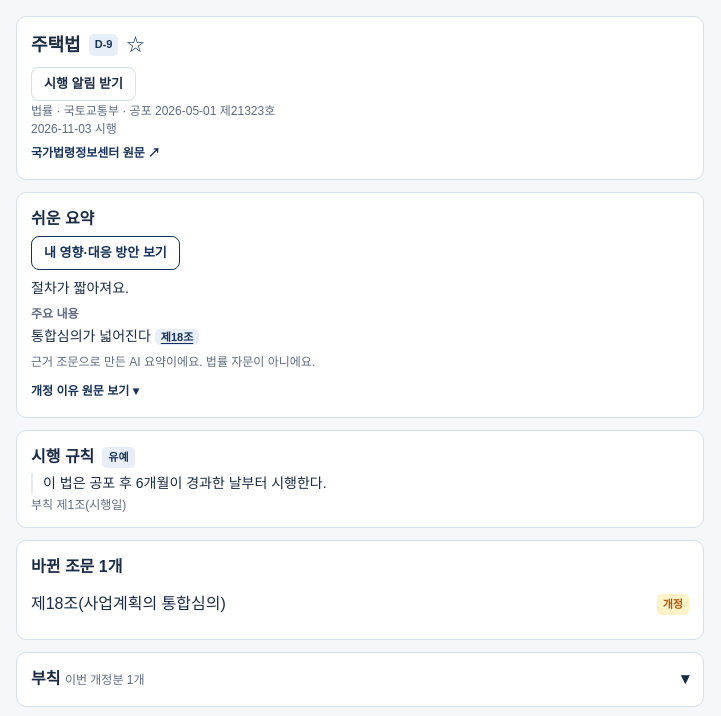
Scenario: LawDetailView › 요약이 있으면 요약이 기본, 개정 이유 원문은 접힘, 쉬운 요약 보기 버튼 없음
Expected: the text "절차가 짧아져요." is shown, [31,280,129,296]
Expected: the text "심의 절차를 간소화한다." is not shown
What coordinates should you click on to do the following:
click the button "개정 이유 원문 보기 ▾"
I would click on:
 (85, 391)
Its box is [31,383,139,399].
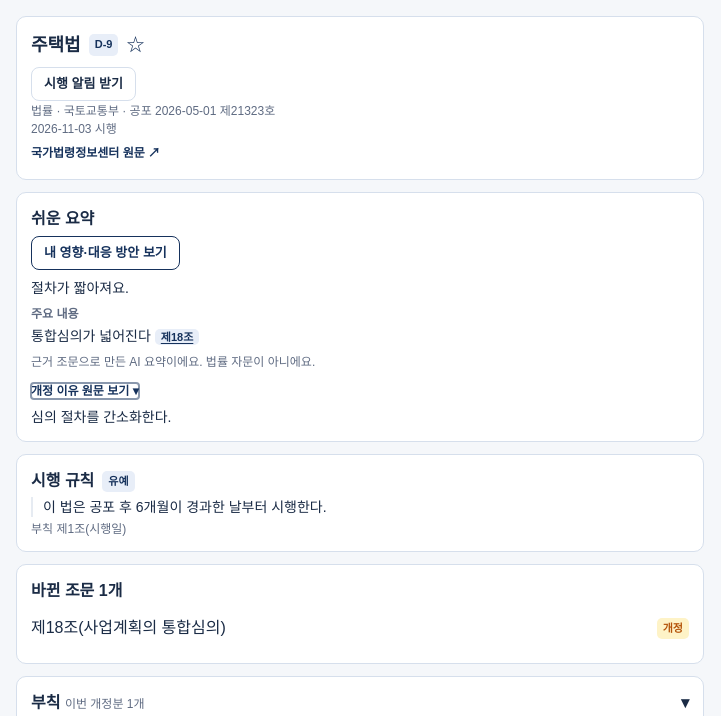
Now the text "심의 절차를 간소화한다." is shown, box [31,409,172,425]
